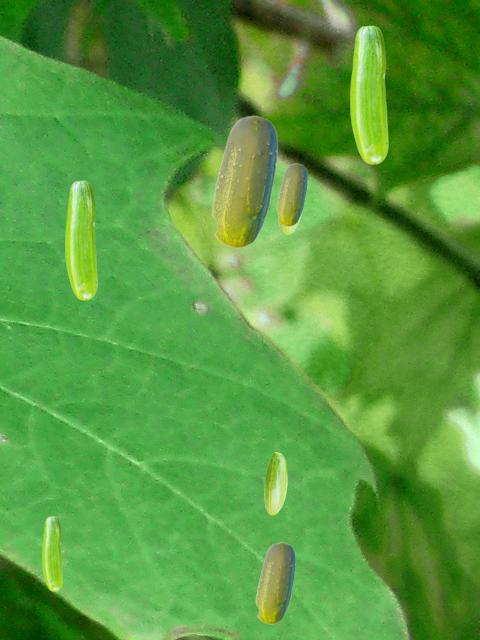cucumber: (211, 115, 276, 247), (350, 25, 387, 163), (65, 180, 96, 299), (255, 542, 294, 623), (276, 163, 306, 225), (42, 516, 61, 590), (264, 452, 286, 514), (278, 217, 301, 234)
